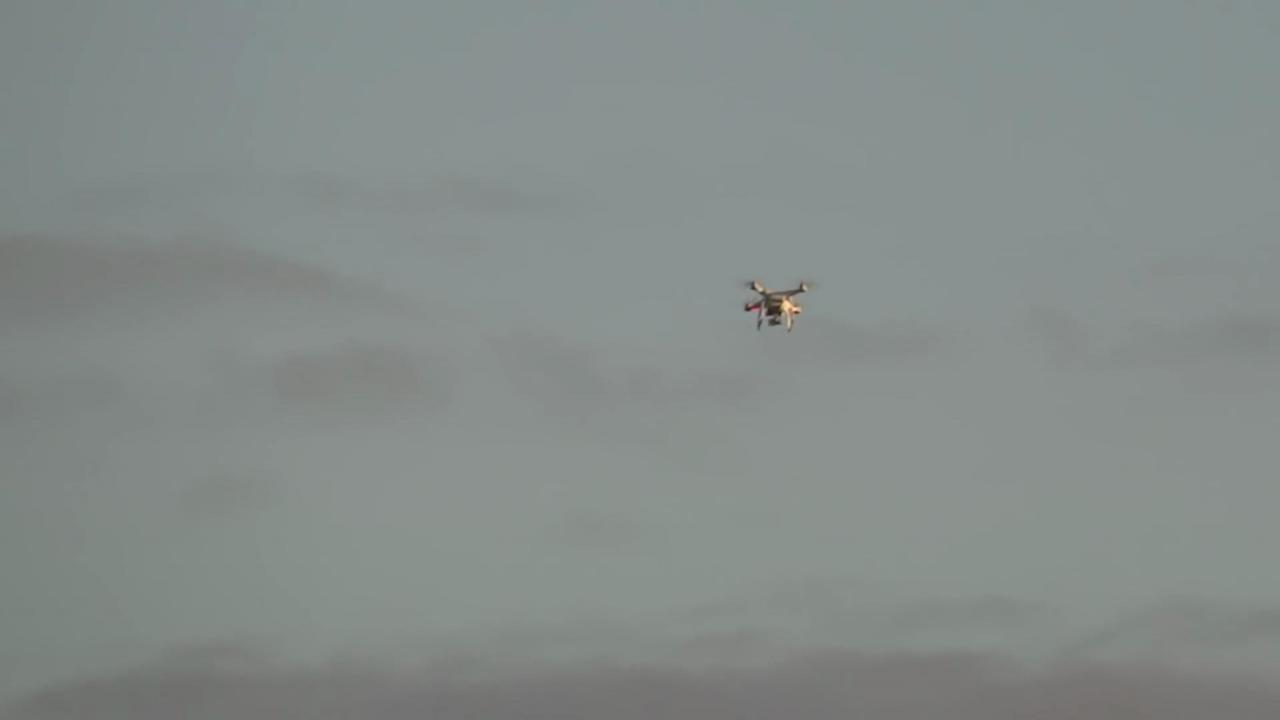Drone: (727, 265, 826, 339)
